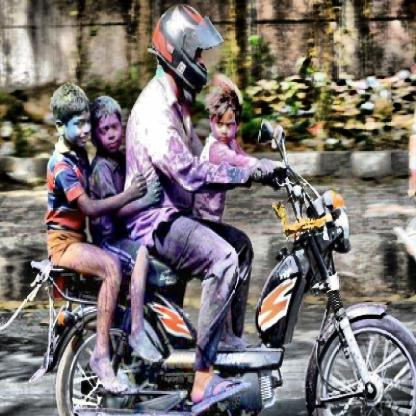not_wear: (46, 86, 94, 154), (203, 72, 236, 146), (90, 92, 120, 151)
wear: (155, 4, 212, 99)
